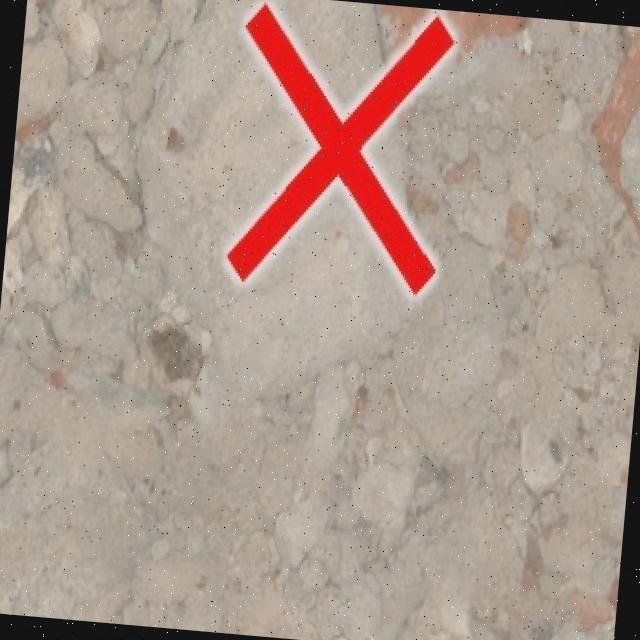x_marker: (222, 0, 456, 296)
